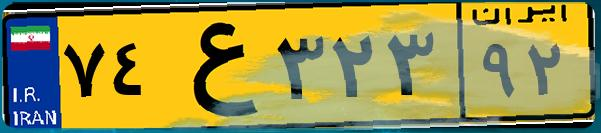2: (330, 28, 385, 110), (525, 38, 570, 115)
3: (270, 28, 330, 110), (385, 28, 445, 110)
4: (110, 28, 158, 98)
7: (57, 26, 110, 100)
9: (475, 38, 525, 113)
ع: (158, 12, 270, 120)
